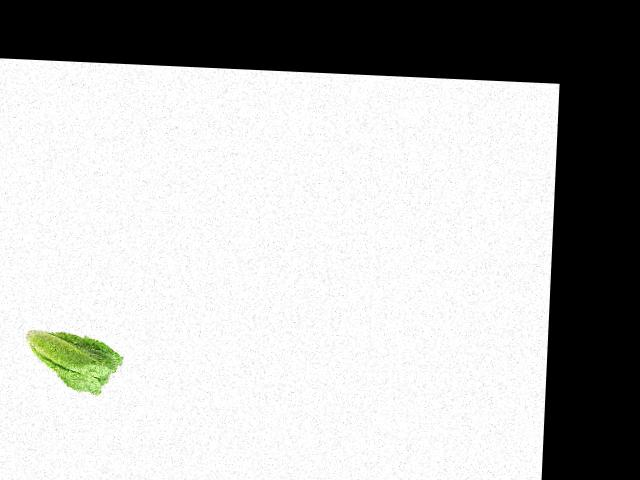lettuce: (14, 327, 124, 397)
